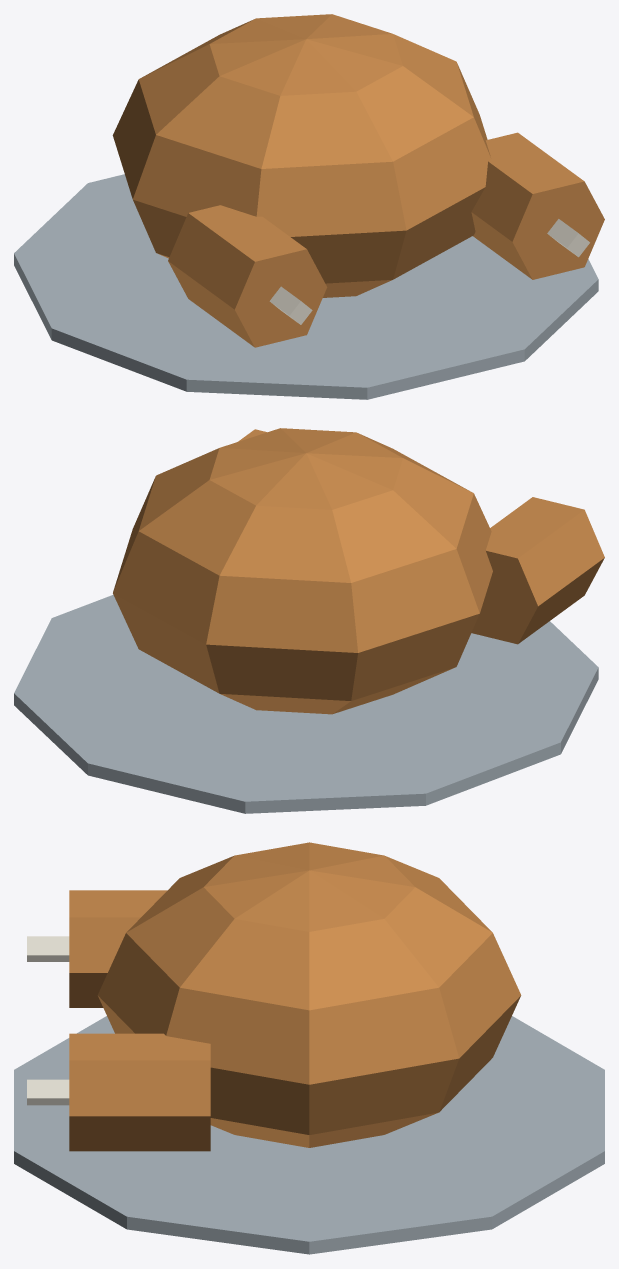
The model's file is FD_TurkeyRoast_01.glb.
3 views of the same model, one above another, from view 1: azimuth 30°, elevation 25°; view 2: azimuth 150°, elevation 25°; view 3: azimuth 270°, elevation 25° (orthographic). The views are drawn at different scales.
Visible parts, largest first — view 1: FD_TurkeyRoast_01; view 2: FD_TurkeyRoast_01; view 3: FD_TurkeyRoast_01.
Boxes of the visible parts, left/top/right/bottom form: FD_TurkeyRoast_01: left=14, top=14, right=604, bottom=399; FD_TurkeyRoast_01: left=14, top=428, right=604, bottom=813; FD_TurkeyRoast_01: left=14, top=842, right=604, bottom=1254.
Bounding box in the file's own units: 0.44 × 0.1975 × 0.4185.
Materials: 1 (1 with a texture image).
